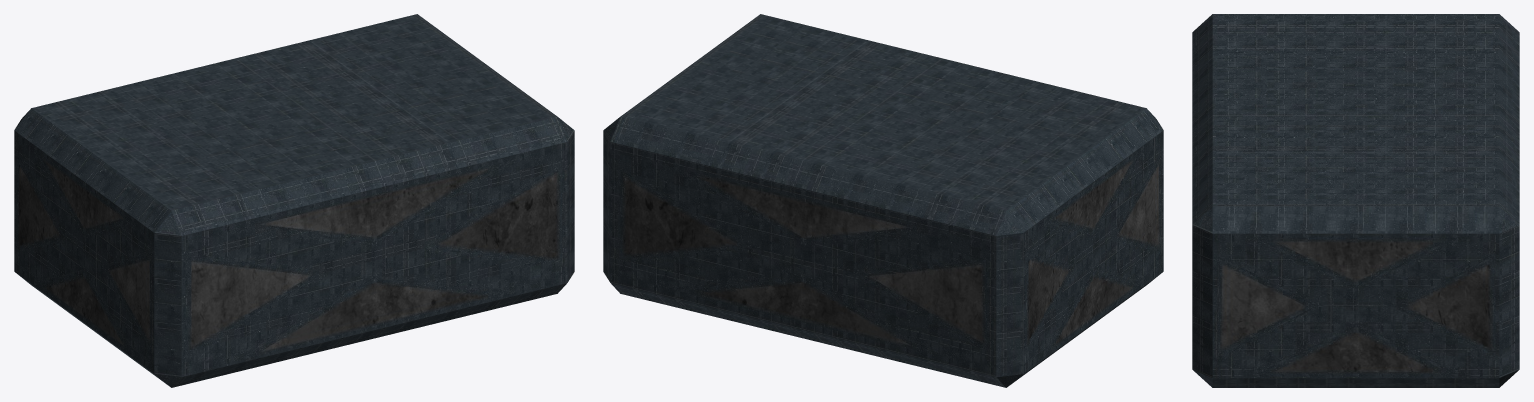
The picture shows the model from 3 angles, left to right: view 1: azimuth 30°, elevation 25°; view 2: azimuth 150°, elevation 25°; view 3: azimuth 270°, elevation 25°; orthographic projection. The views are drawn at different scales.
Parts seen in each view (by area): view 1: Box_lp; view 2: Box_lp; view 3: Box_lp.
Boxes of the visible parts, bbox=[...] form: Box_lp: bbox=[14, 14, 574, 387]; Box_lp: bbox=[603, 14, 1163, 387]; Box_lp: bbox=[1192, 14, 1519, 387].
Size of the model in its own units: 100 by 40.28 by 65.95.
1 material, 1 textured.
